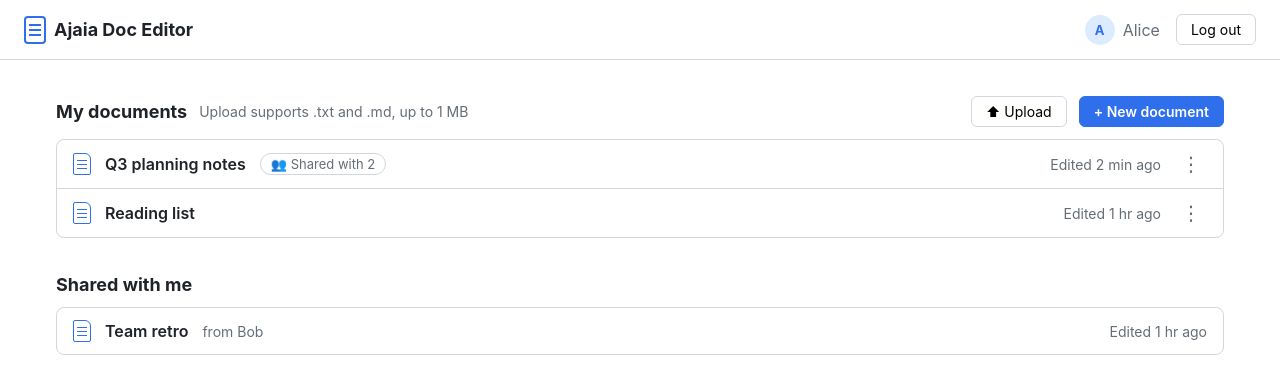
Test case: document list › closes the row menu on Escape
This screenshot has width=1280, height=373.
Step 1. Click the button "⋮" in the row of "Reading list" → (1191,213), box x1=1175 y1=201 x2=1207 y2=225
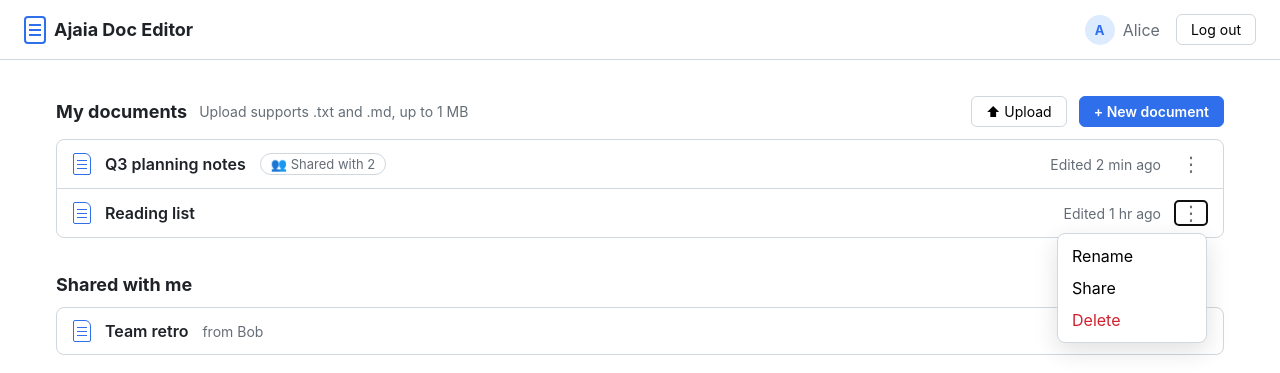
Step 2. Press Escape
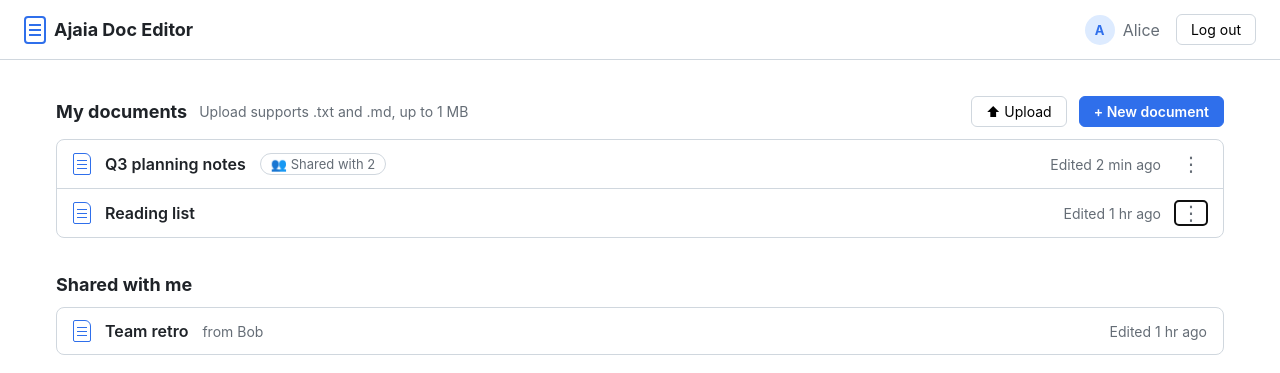
Expected: the menu is gone
